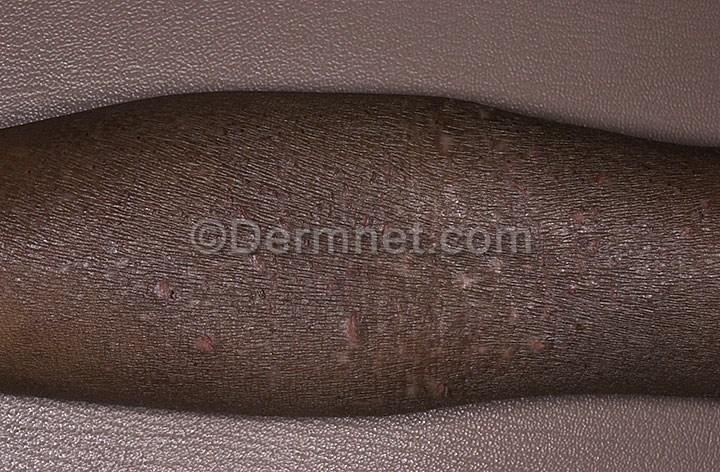liquenificacion 2: (9, 92, 720, 414)
xerosis 3: (9, 91, 720, 423)
